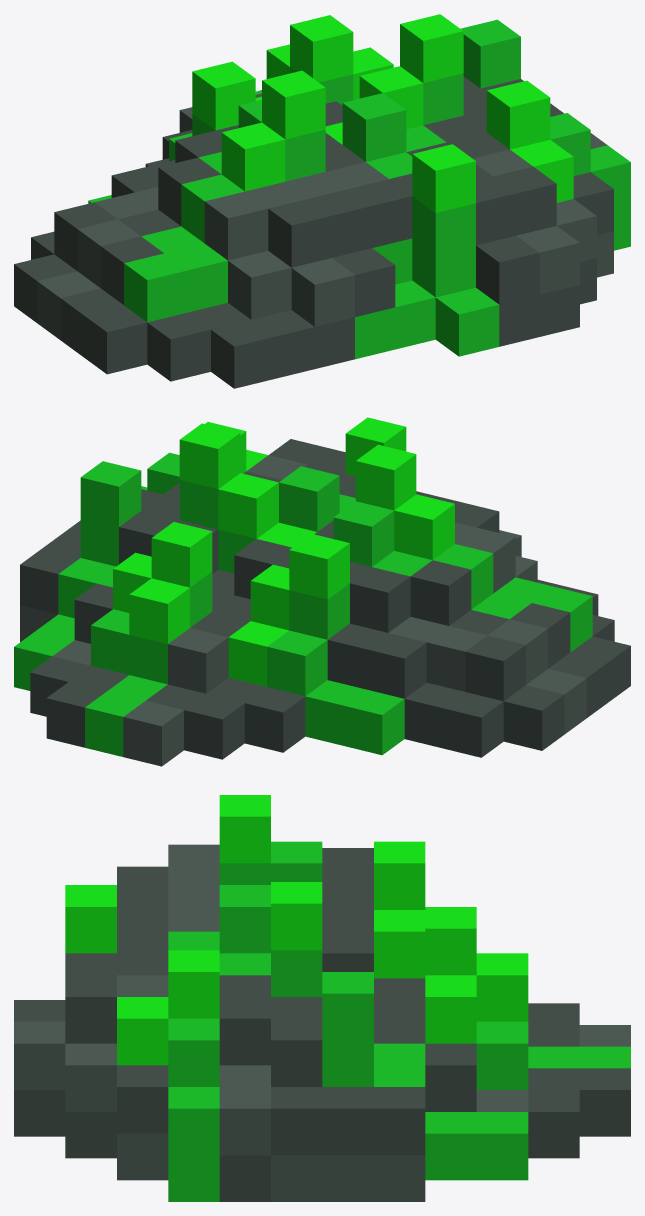
The model's file is EmeraldDeposit_M.obj.
3 renders of one model, top to bottom at view 1: azimuth 30°, elevation 25°; view 2: azimuth 150°, elevation 25°; view 3: azimuth 270°, elevation 25°, orthographic. The views are drawn at different scales.
Visible parts, largest first — view 1: EmeraldDeposit_M; view 2: EmeraldDeposit_M; view 3: EmeraldDeposit_M.
Boxes of the visible parts, x1,y1,x2,y2 form: EmeraldDeposit_M: (14,14,630,388); EmeraldDeposit_M: (14,417,630,766); EmeraldDeposit_M: (14,795,630,1201).
Bounding box in the file's own units: 1.3 × 0.5 × 1.2.
Materials: 1 (1 with a texture image).
